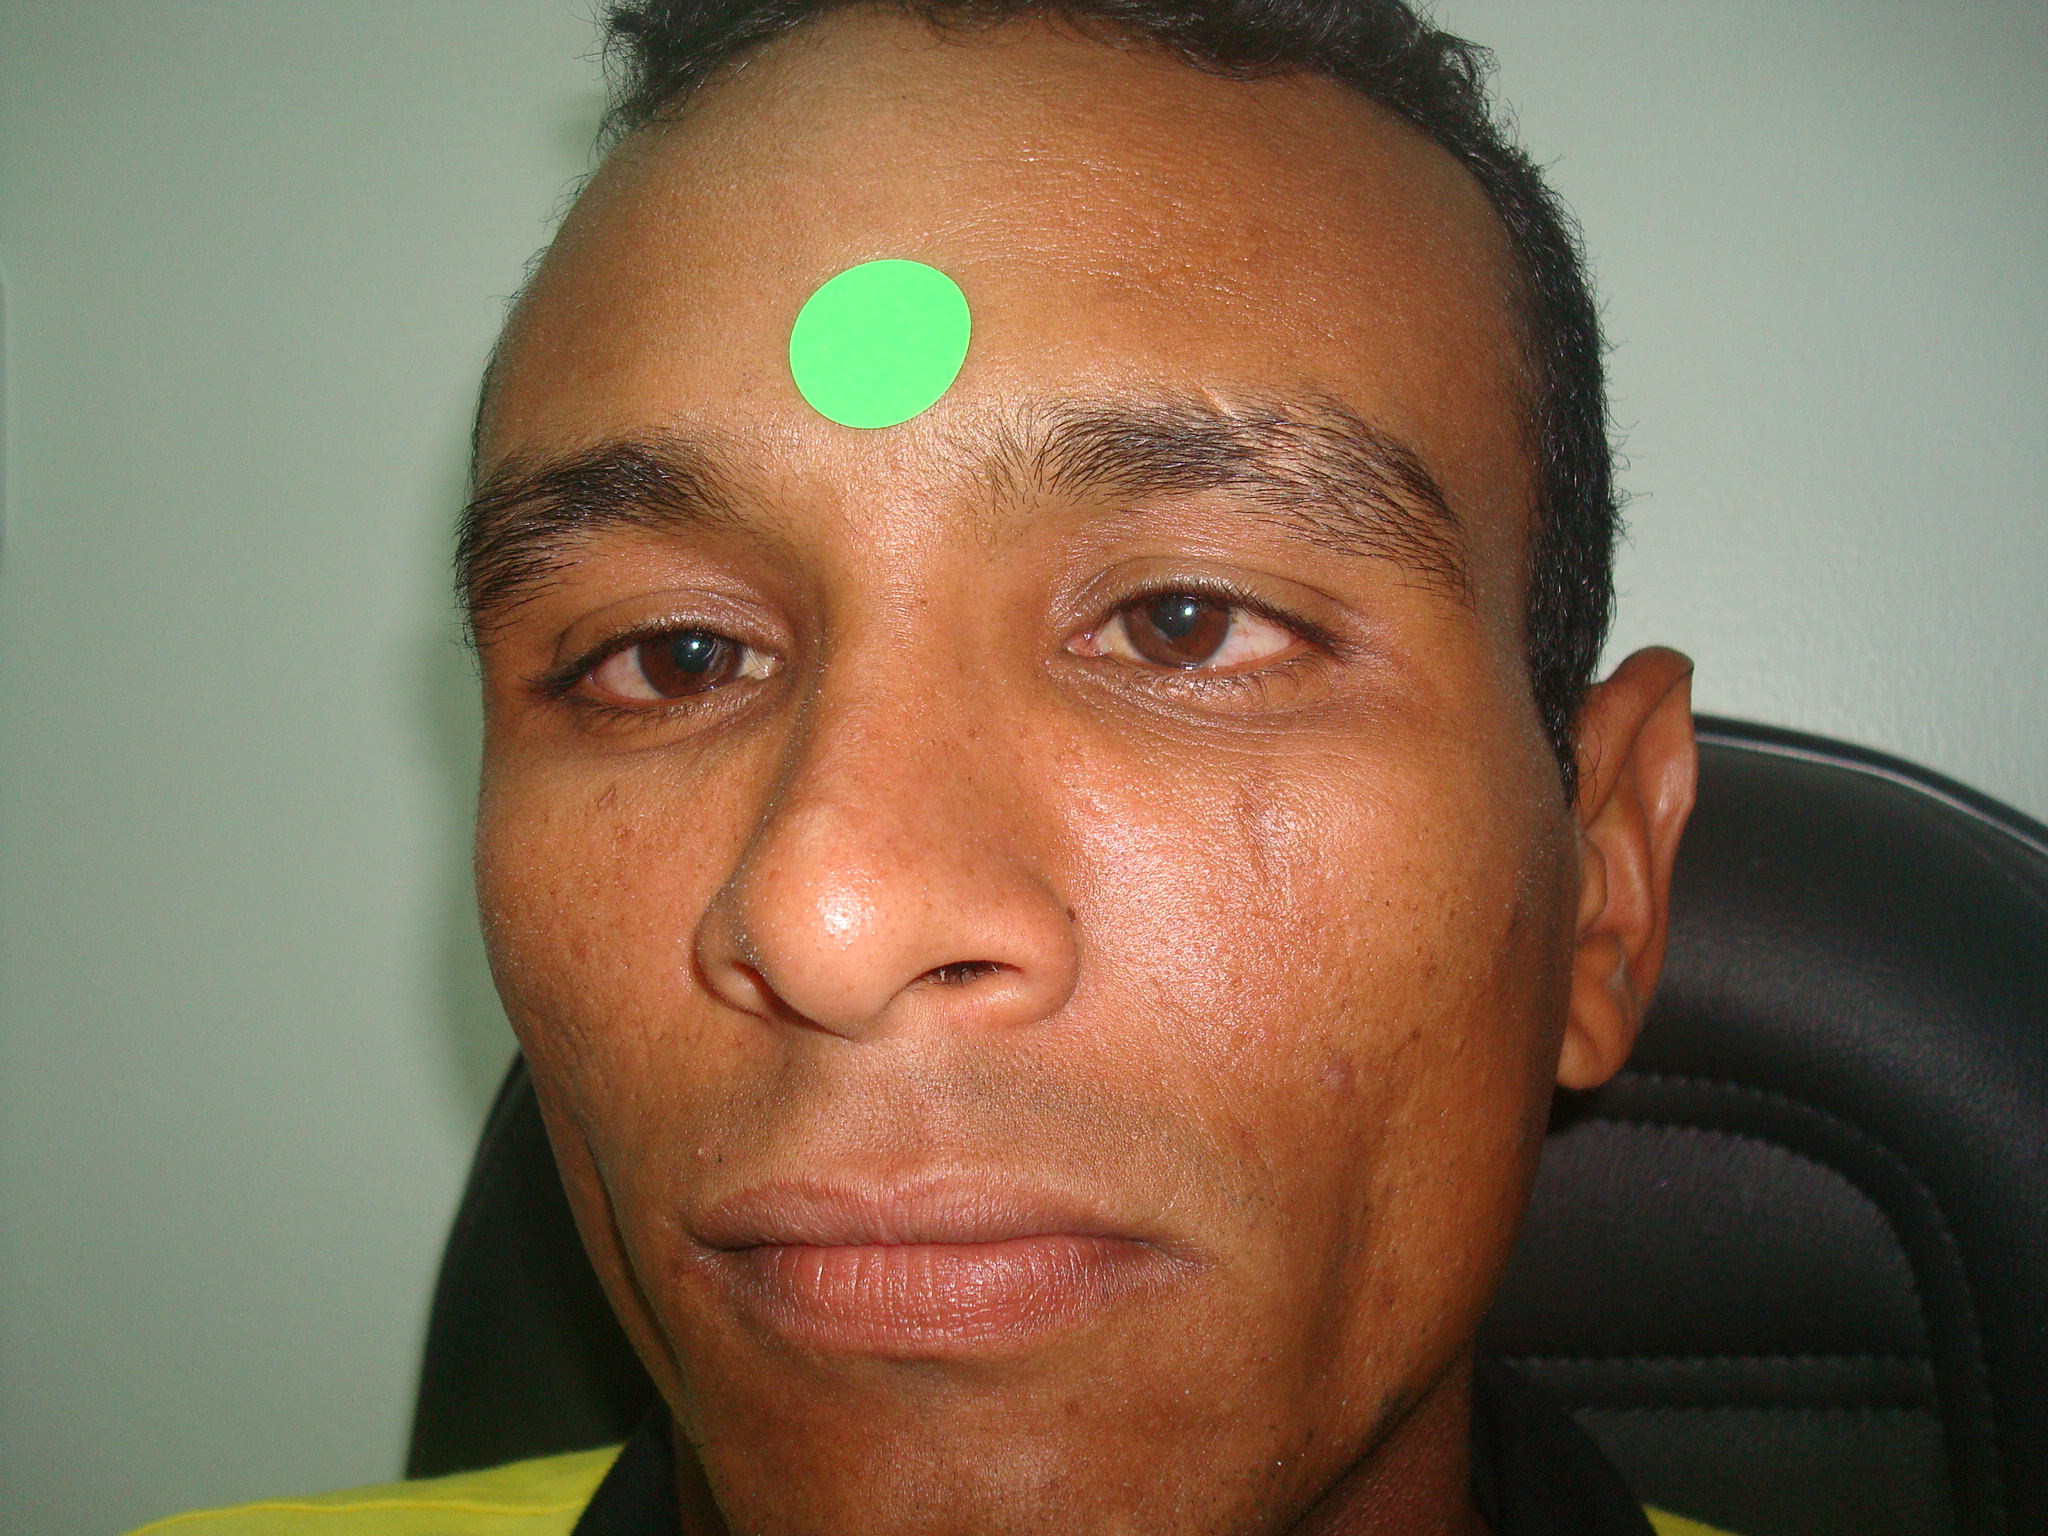flash: (687, 637, 703, 652), (1180, 605, 1197, 618)
limbo: (1119, 571, 1227, 662), (643, 610, 742, 692)
